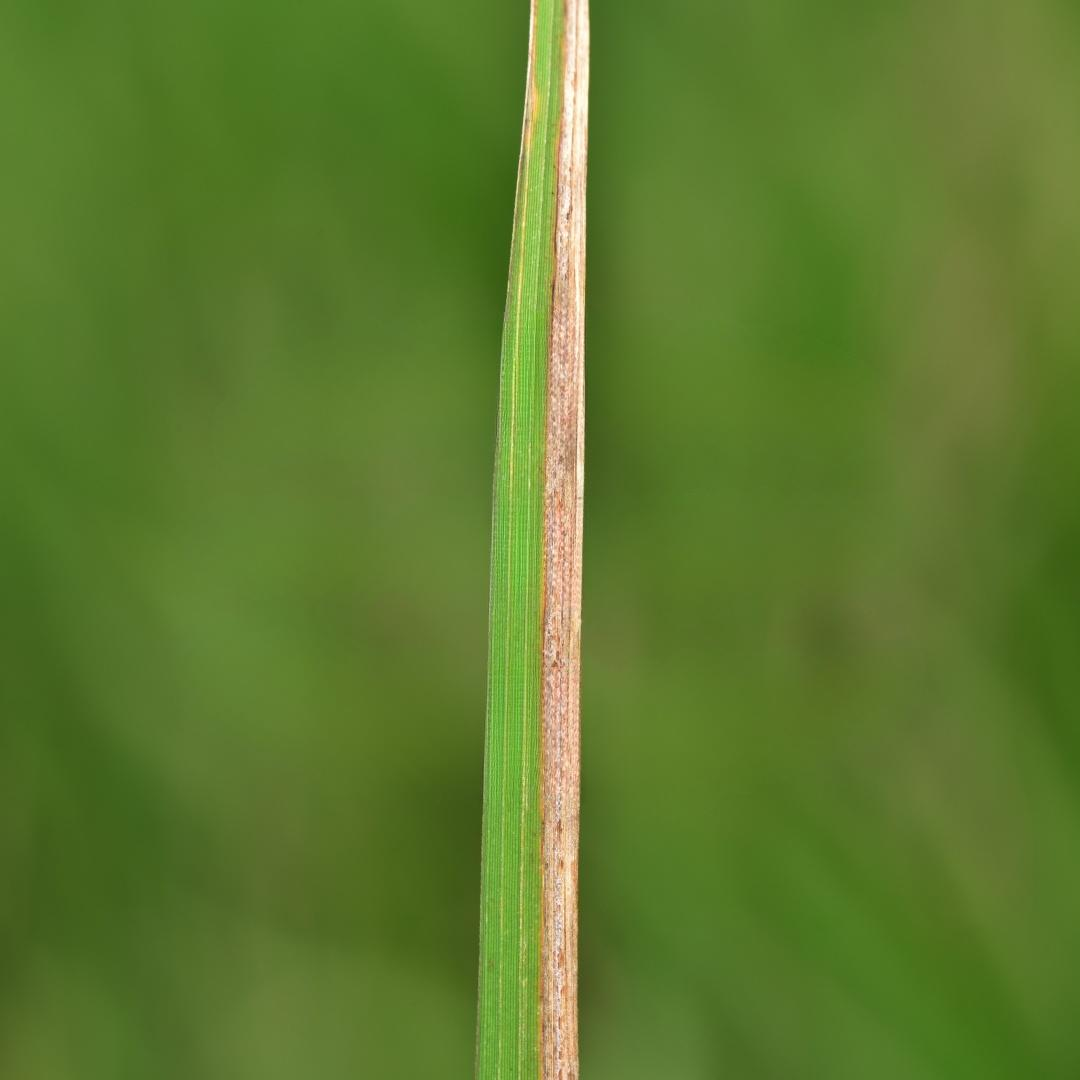BLB: (540, 2, 589, 1079)
LEAF: (477, 1, 589, 1079)
